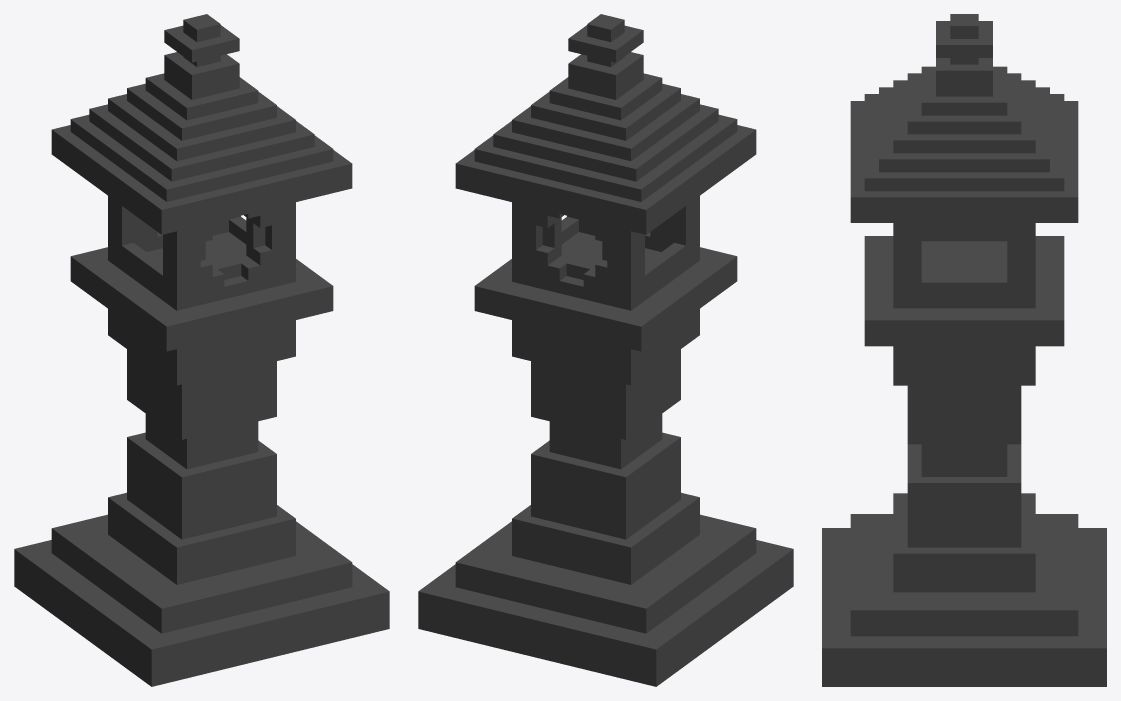
File: mapkari-5.obj
3 views of the same model, side by side, from view 1: azimuth 30°, elevation 25°; view 2: azimuth 150°, elevation 25°; view 3: azimuth 270°, elevation 25° (orthographic). The views are drawn at different scales.
Parts seen in each view (by area): view 1: mapkari-5; view 2: mapkari-5; view 3: mapkari-5.
Part boxes in pixels (bbox=[...]): mapkari-5: bbox=[14, 14, 389, 686]; mapkari-5: bbox=[418, 14, 793, 686]; mapkari-5: bbox=[822, 14, 1106, 686].
Size of the model in its own units: 20 by 47 by 20.
